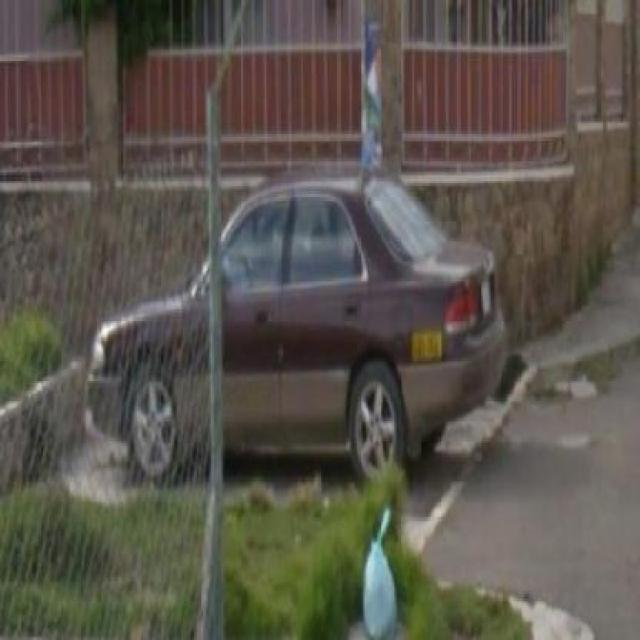car: (93, 202, 510, 490)
